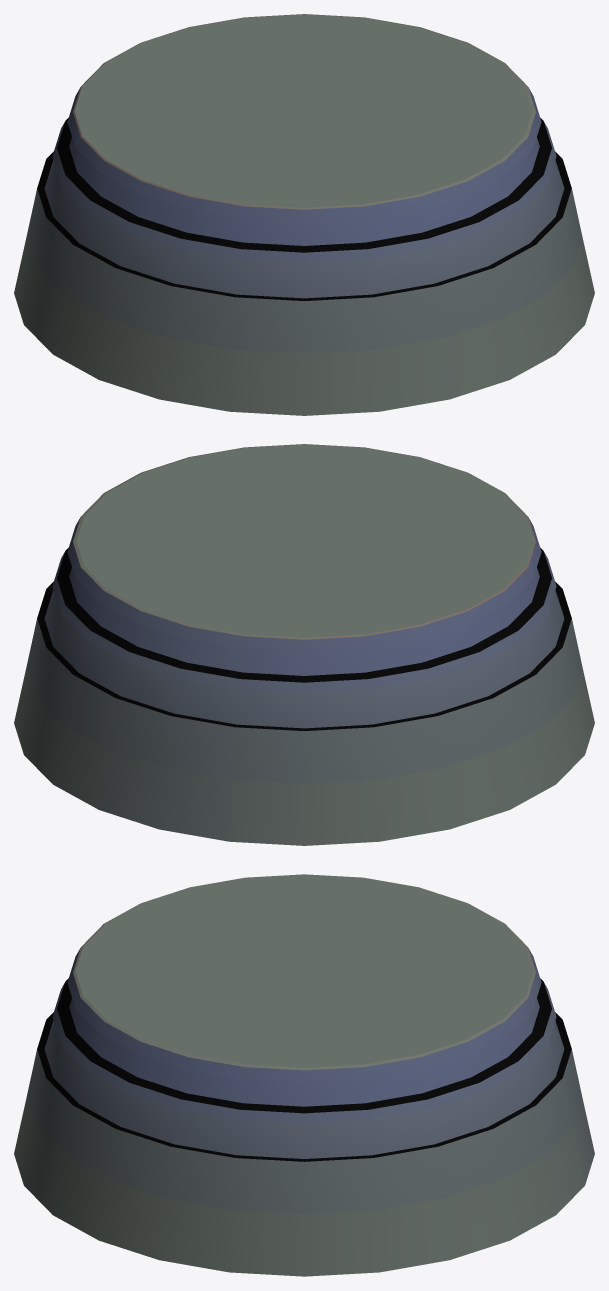
File: Tile_City.fbx
3 views of the same model, one above another, from view 1: azimuth 30°, elevation 25°; view 2: azimuth 150°, elevation 25°; view 3: azimuth 270°, elevation 25° (orthographic).
Parts seen in each view (by area): view 1: Cylinder; view 2: Cylinder; view 3: Cylinder.
Boxes of the visible parts, x1,y1,x2,y2 form: Cylinder: [14, 14, 594, 415]; Cylinder: [14, 444, 594, 845]; Cylinder: [14, 874, 594, 1276].
Size of the model in its own units: 105 by 36.29 by 105.
